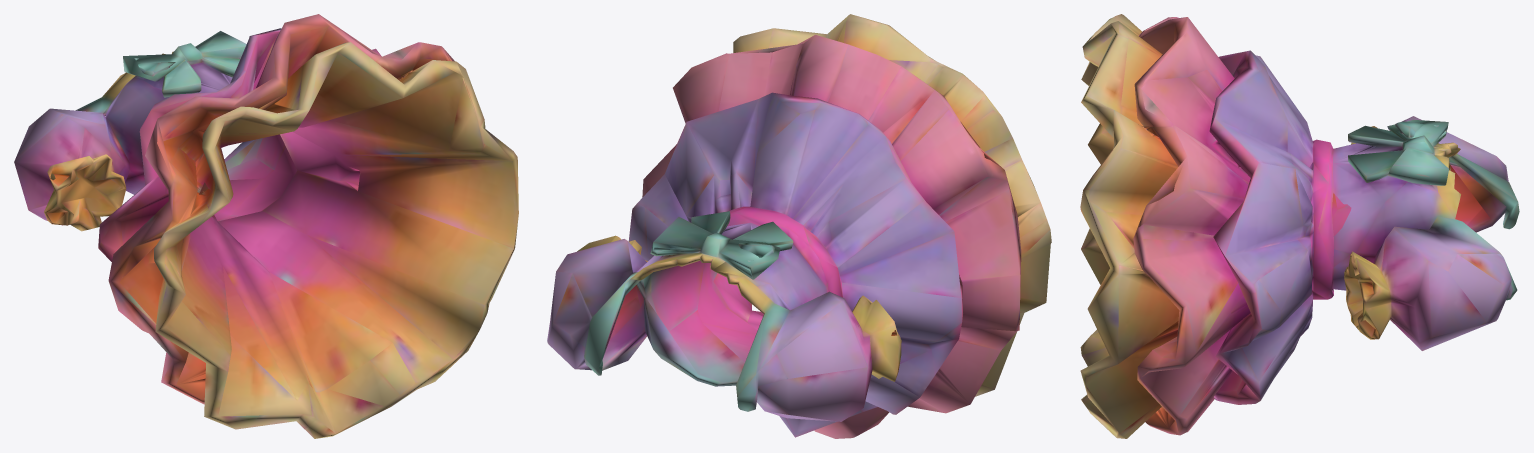
3 renders of one model, left to right at view 1: azimuth 30°, elevation 25°; view 2: azimuth 150°, elevation 25°; view 3: azimuth 270°, elevation 25°, orthographic.
Parts seen in each view (by area): view 1: material; view 2: material; view 3: material.
Part boxes in pixels (<box>): material: <box>14,14,518,438</box>; material: <box>547,14,1051,438</box>; material: <box>1080,14,1519,438</box>.
Bounding box in the file's own units: 0.9968 × 1 × 0.9902.
1 material, 1 textured.
